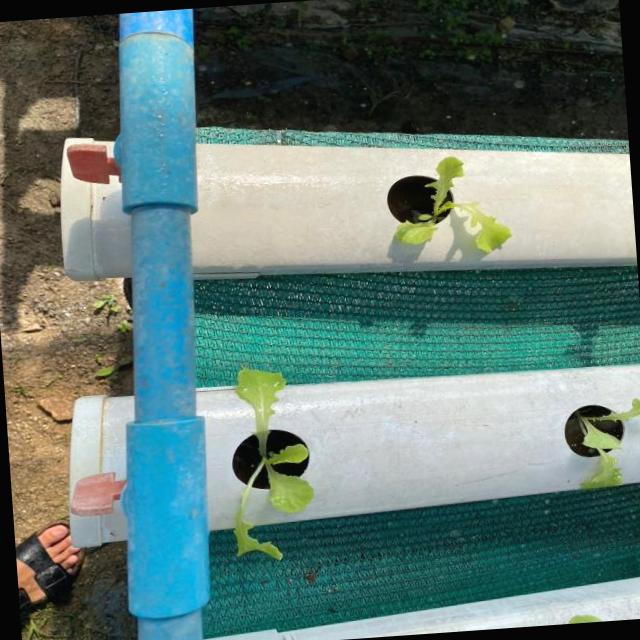Lettuce-Not-Ready-to-Harvest: (236, 368, 312, 559), (394, 155, 510, 253), (580, 398, 640, 487)
